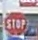stop: (2, 10, 28, 35)
